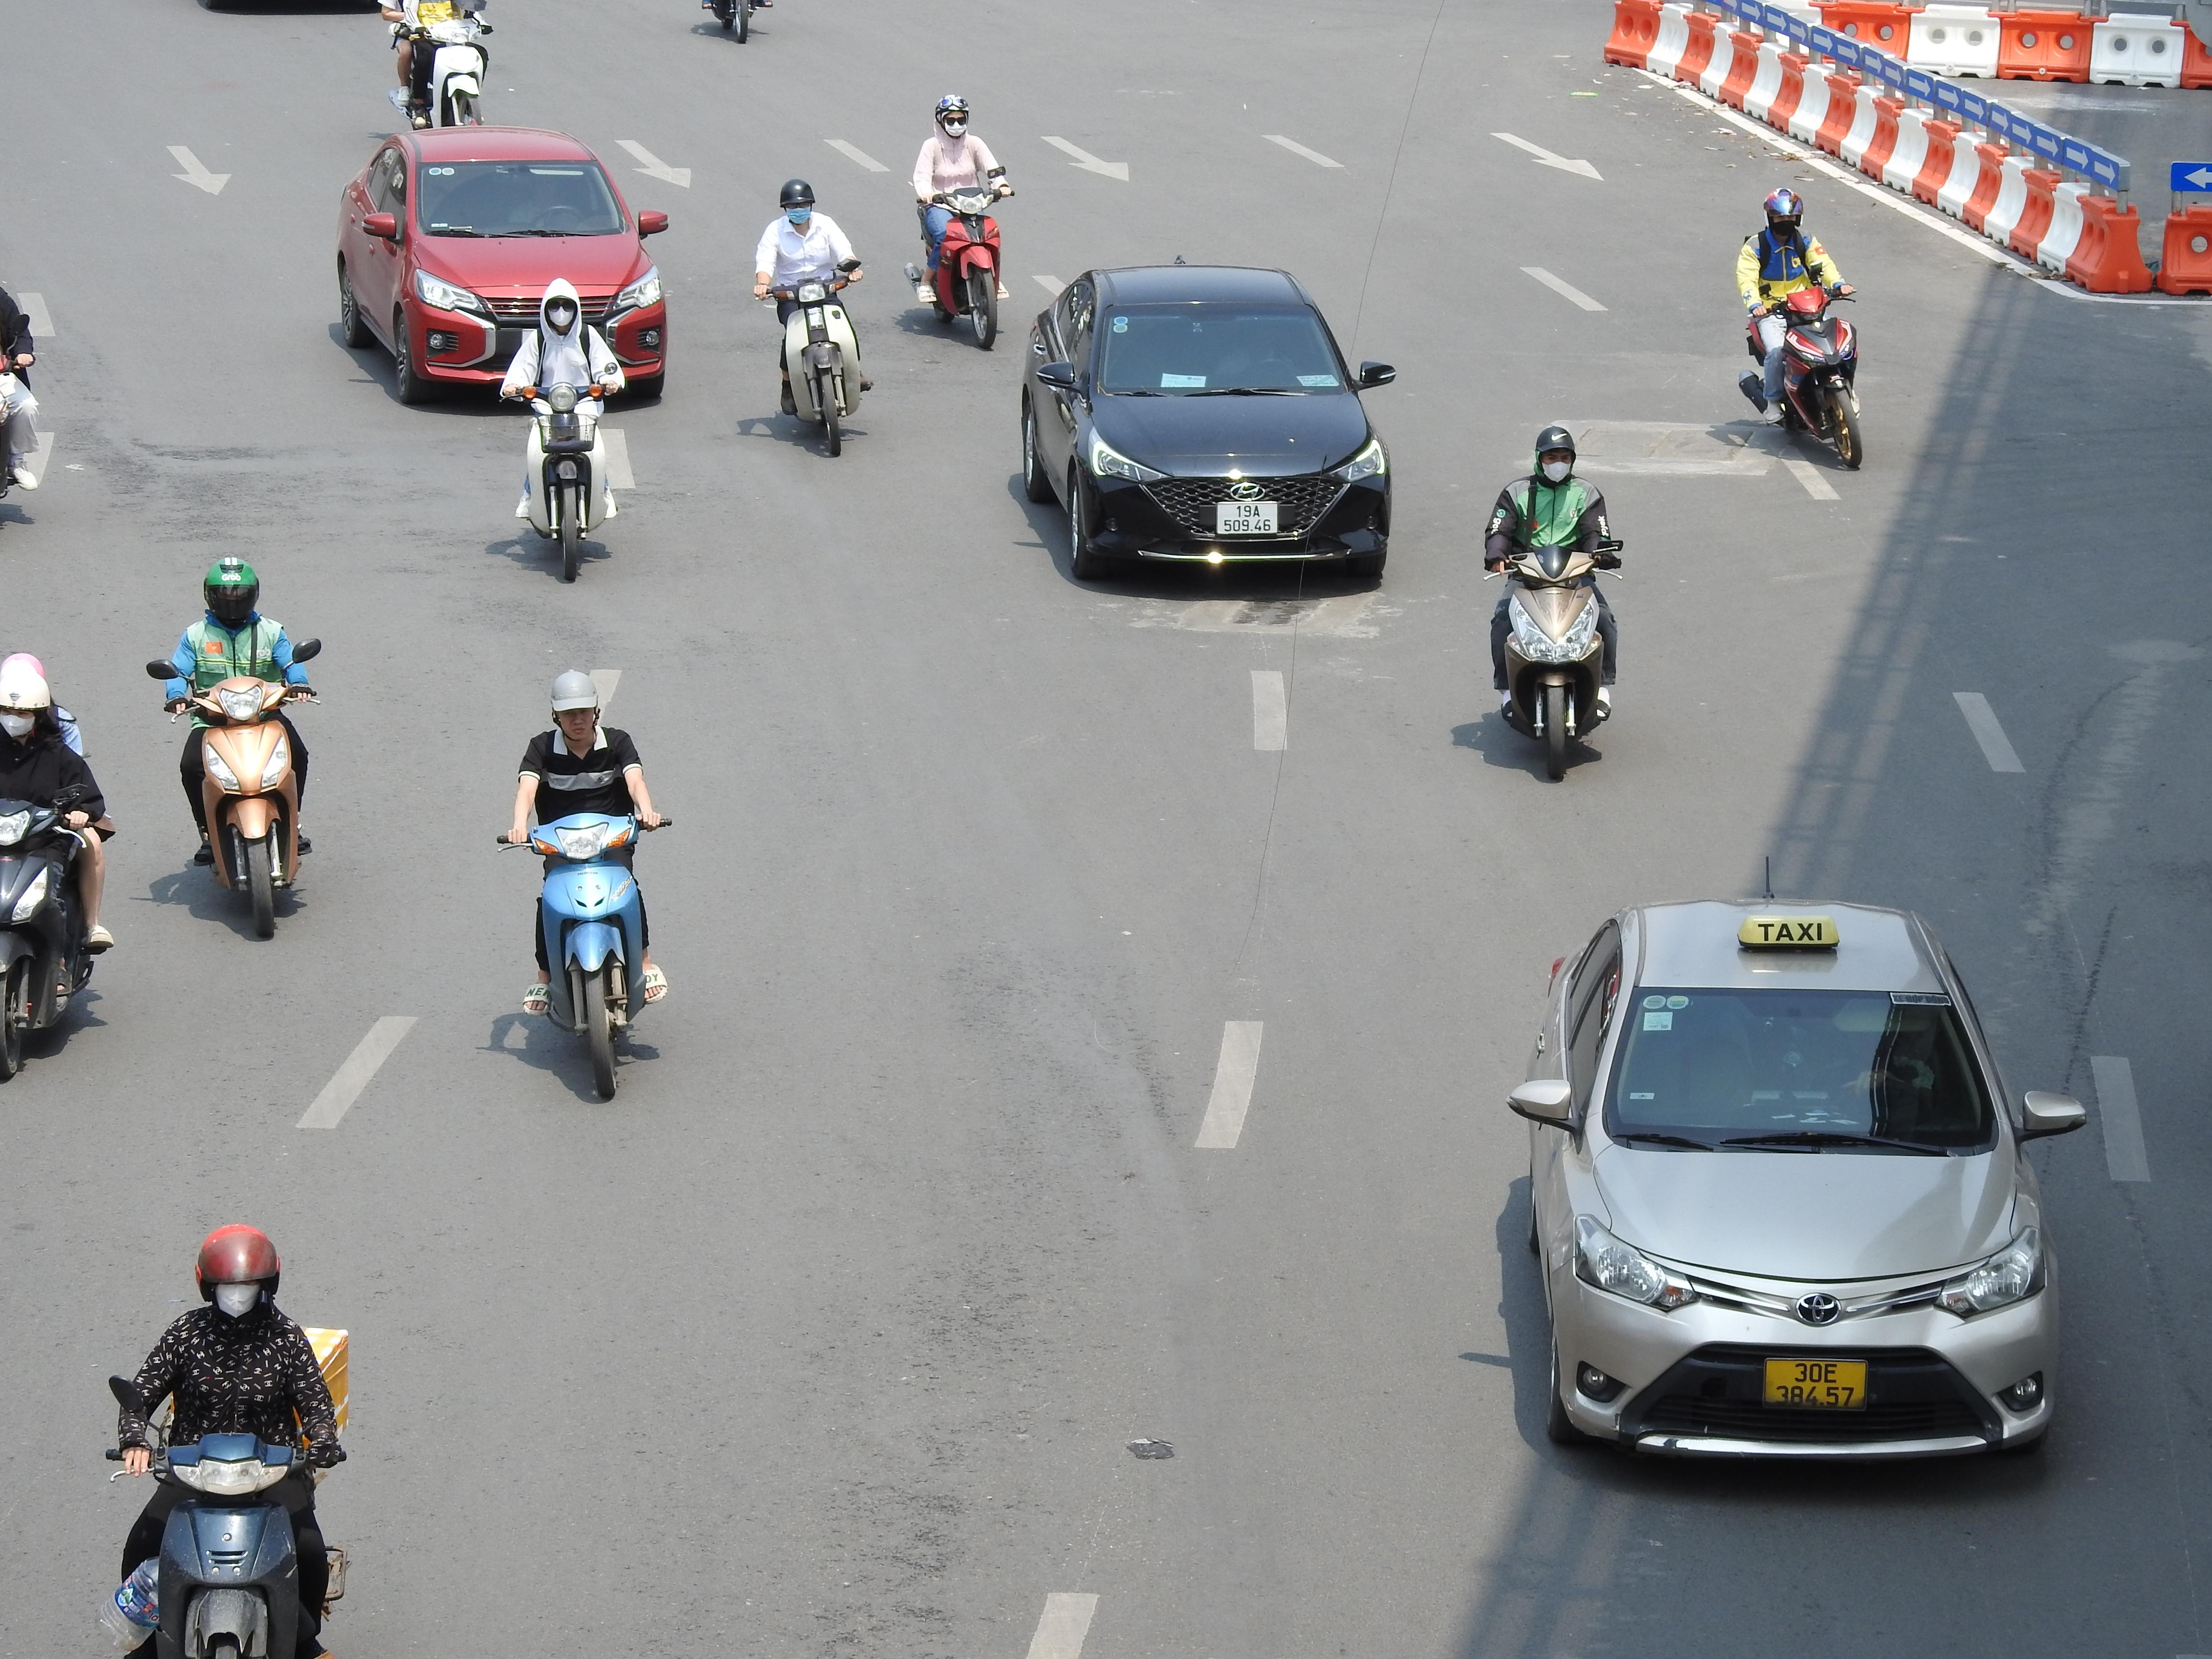BSV: (1764, 1358, 1867, 1408), (1216, 500, 1278, 537)
car: (1501, 897, 2088, 1471), (1015, 263, 1397, 587), (333, 124, 672, 408)
motorbike: (103, 1222, 352, 1659), (503, 667, 669, 1103), (152, 554, 320, 941), (0, 650, 115, 1086), (1484, 423, 1622, 784), (1738, 188, 1862, 472), (505, 279, 620, 584), (756, 176, 871, 458), (907, 94, 1010, 352), (385, 0, 491, 131), (0, 230, 38, 542)
